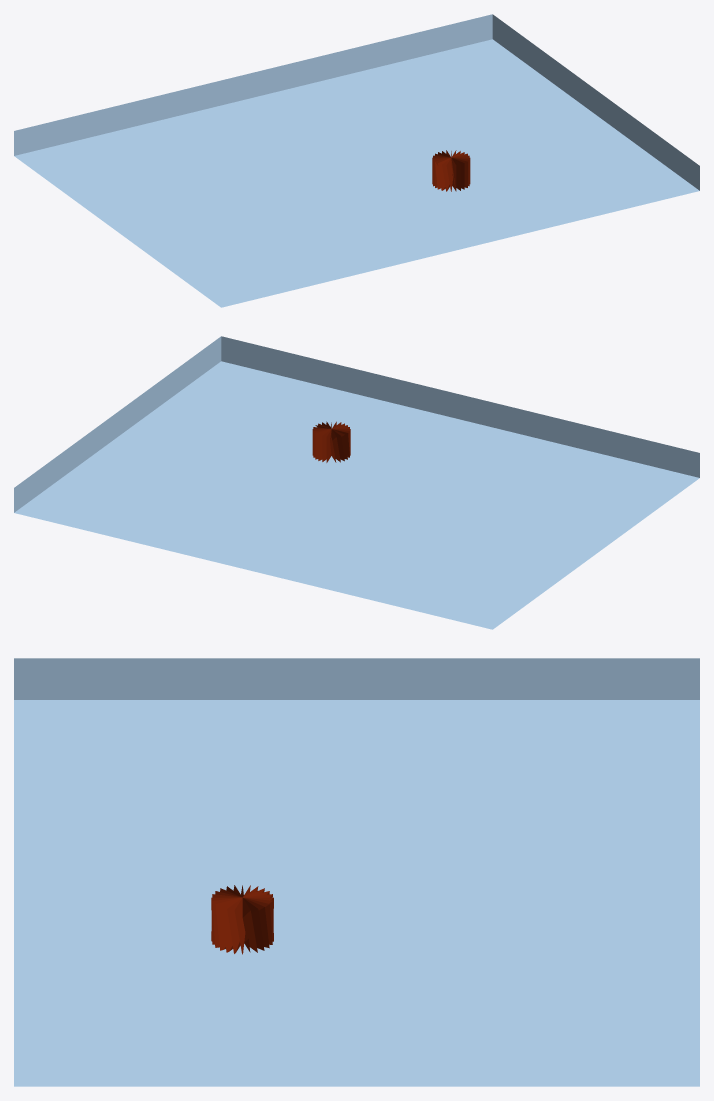
The model's file is bracket_0787d43e.glb.
3 views of the same model, one above another, from view 1: azimuth 30°, elevation 25°; view 2: azimuth 150°, elevation 25°; view 3: azimuth 270°, elevation 25° (orthographic). The views are drawn at different scales.
Visible parts, largest first — view 1: base_plate, hole_1; view 2: base_plate, hole_1; view 3: base_plate, hole_1.
Part boxes in pixels (x1,y1,x2,y2): base_plate: [14, 14, 699, 307]; hole_1: [432, 150, 470, 191]; base_plate: [14, 336, 699, 629]; hole_1: [312, 421, 350, 462]; base_plate: [14, 658, 699, 1086]; hole_1: [211, 885, 273, 954].
Bounding box in the file's own units: 80 × 4.5 × 60.
